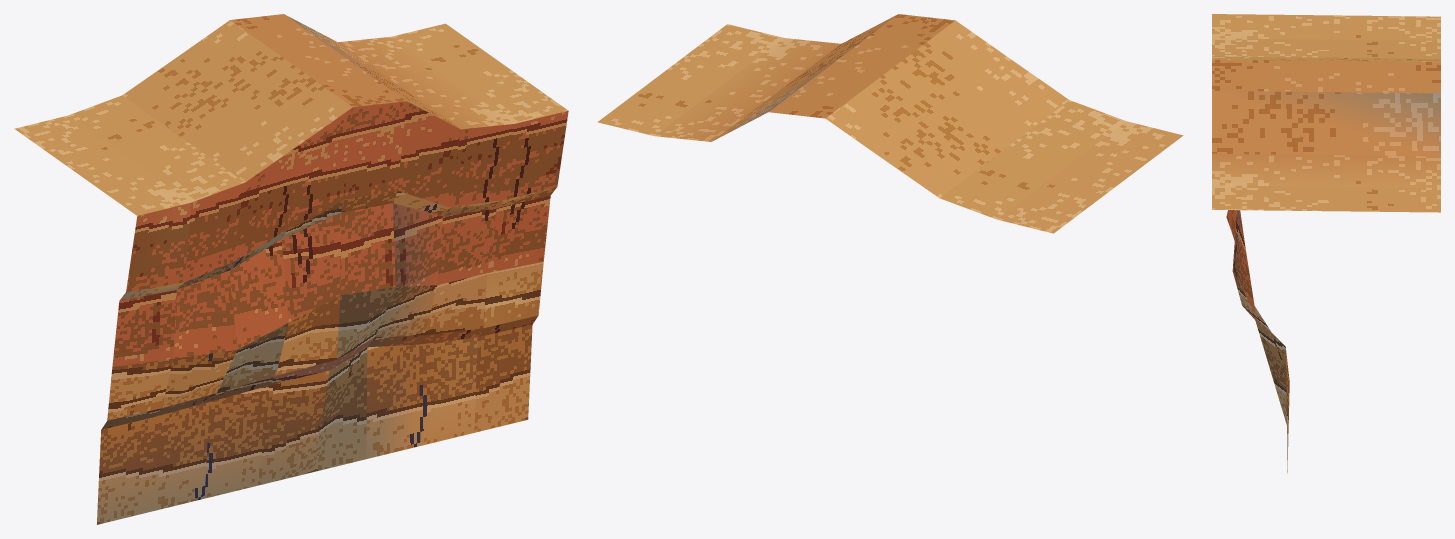
The model's file is wland.canyon_wall__low.glb.
3 renders of one model, left to right at view 1: azimuth 30°, elevation 25°; view 2: azimuth 150°, elevation 25°; view 3: azimuth 270°, elevation 25°, orthographic. The views are drawn at different scales.
Visible parts, largest first — view 1: kit_shell_face, kit_shell_cap; view 2: kit_shell_cap; view 3: kit_shell_cap, kit_shell_face.
Part boxes in pixels (bbox=[...]): kit_shell_face: bbox=[97, 101, 568, 524]; kit_shell_cap: bbox=[14, 14, 568, 215]; kit_shell_cap: bbox=[598, 14, 1183, 233]; kit_shell_cap: bbox=[1212, 14, 1440, 212]; kit_shell_face: bbox=[1226, 210, 1289, 473].
Bounding box in the file's own units: 8 × 7 × 3.95.
Materials: 3 (3 with a texture image).
